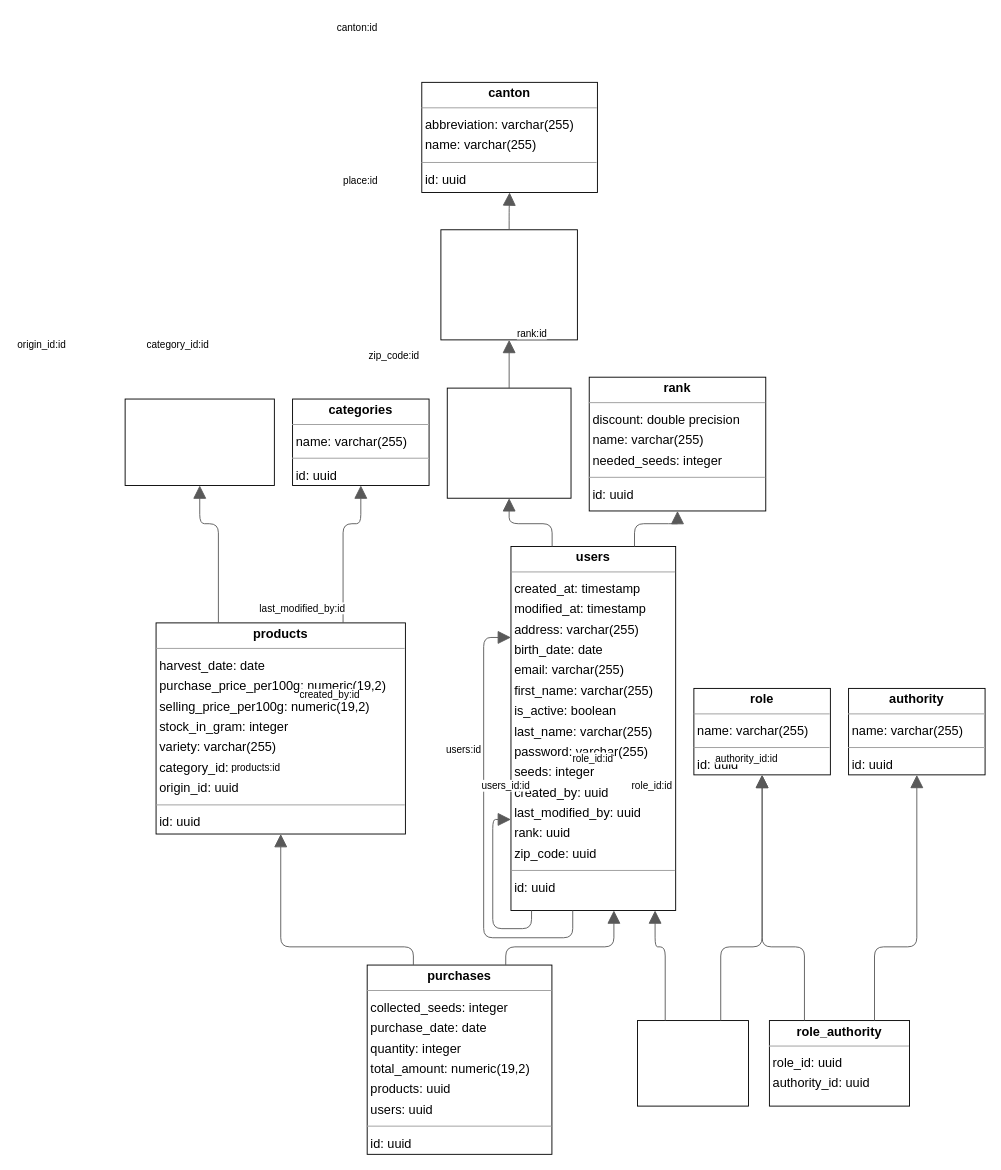
Some shapes in this 1001 by 1170 pixel diagram are drawn without their labels. The centre of each missing label's shape, as x and y in pixels:
"origins country: varchar(255) id: uuid" belongs at point (199, 441).
"place name: varchar(255) canton: uuid id: uuid" belongs at point (508, 284).
"users_role users_id: uuid role_id: uuid" belongs at point (692, 1063).
"zip_code zip_code: integer place: uuid id: uuid" belongs at point (508, 442).
